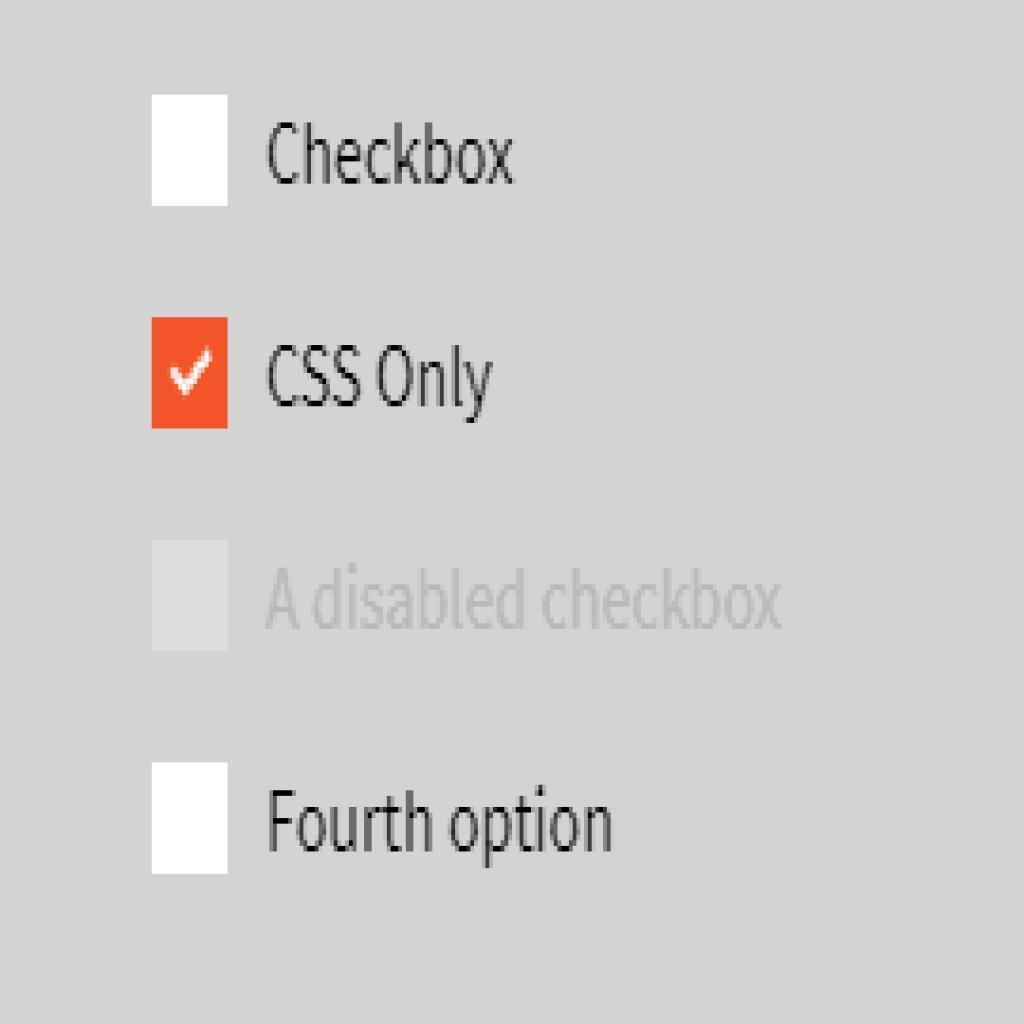checkbox: (147, 756, 241, 880), (144, 538, 235, 661), (145, 86, 234, 210), (146, 312, 238, 430)
